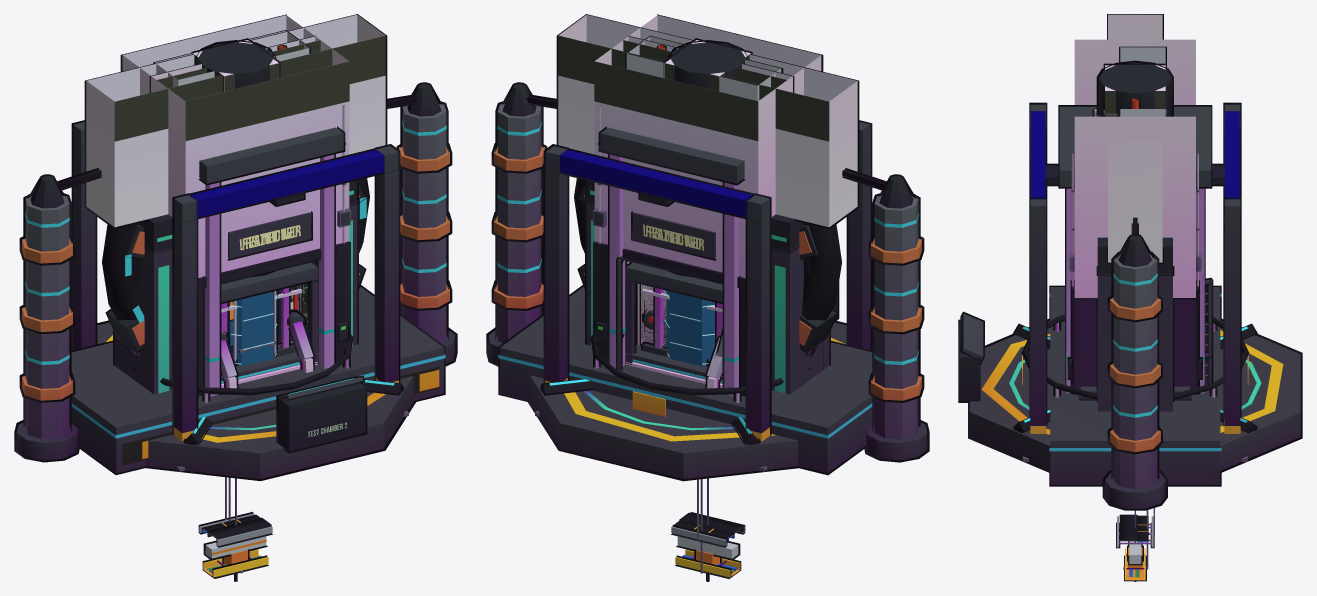
File: fps-kit-datacenter.glb
3 renders of one model, left to right at view 1: azimuth 30°, elevation 25°; view 2: azimuth 150°, elevation 25°; view 3: azimuth 270°, elevation 25°, orthographic. The views are drawn at different scales.
Parts seen in each view (by area): view 1: KIT_DATACENTER_Landmark_Forge, KIT_DATACENTER_GateFrame, KIT_DATACENTER_SecDoor, KIT_DATACENTER_Landmark_GantryMech, KIT_DATACENTER_Landmark_Chamber, KIT_DATACENTER_Landmark_Quantum, KIT_DATACENTER_Fabricator, KIT_DATACENTER_FieldPod_Leaf, KIT_DATACENTER_Landmark_GantryWalker, KIT_DATACENTER_Ladder, KIT_DATACENTER_Landmark_Forge_LED, KIT_DATACENTER_GlassDoor (+5 smaller); view 2: KIT_DATACENTER_Landmark_Forge, KIT_DATACENTER_SecDoor, KIT_DATACENTER_GateFrame, KIT_DATACENTER_Landmark_GantryMech, KIT_DATACENTER_Landmark_Chamber, KIT_DATACENTER_Landmark_Quantum, KIT_DATACENTER_Fabricator, KIT_DATACENTER_FieldPod_Leaf, KIT_DATACENTER_Crac, KIT_DATACENTER_Ladder, KIT_DATACENTER_GlassDoor, KIT_DATACENTER_Tray (+7 smaller); view 3: KIT_DATACENTER_Landmark_Forge, KIT_DATACENTER_SecDoor, KIT_DATACENTER_Landmark_Chamber, KIT_DATACENTER_Landmark_GantryMech, KIT_DATACENTER_GateFrame, KIT_DATACENTER_Landmark_Quantum, KIT_DATACENTER_Ladder, KIT_DATACENTER_Crac, KIT_DATACENTER_CageGate_Broken, KIT_DATACENTER_CornerH, KIT_DATACENTER_Tray, KIT_DATACENTER_Landmark_Forge_LED (+1 smaller).
Part boxes in pixels (x1=…): KIT_DATACENTER_Landmark_Forge: x1=14, y1=82, x2=457, y2=474; KIT_DATACENTER_GateFrame: x1=84, y1=14, x2=387, y2=394; KIT_DATACENTER_SecDoor: x1=120, y1=14, x2=350, y2=396; KIT_DATACENTER_Landmark_GantryMech: x1=71, y1=120, x2=408, y2=471; KIT_DATACENTER_Landmark_Chamber: x1=97, y1=181, x2=415, y2=481; KIT_DATACENTER_Landmark_Quantum: x1=132, y1=40, x2=353, y2=402; KIT_DATACENTER_Fabricator: x1=221, y1=262, x2=318, y2=387; KIT_DATACENTER_FieldPod_Leaf: x1=231, y1=291, x2=277, y2=366; KIT_DATACENTER_Landmark_GantryWalker: x1=221, y1=300, x2=315, y2=388; KIT_DATACENTER_Ladder: x1=198, y1=477, x2=272, y2=547; KIT_DATACENTER_Landmark_Forge_LED: x1=25, y1=120, x2=446, y2=364; KIT_DATACENTER_GlassDoor: x1=149, y1=35, x2=320, y2=92; KIT_DATACENTER_Landmark_Forge: x1=486, y1=82, x2=929, y2=475; KIT_DATACENTER_SecDoor: x1=593, y1=14, x2=823, y2=396; KIT_DATACENTER_GateFrame: x1=556, y1=14, x2=859, y2=394; KIT_DATACENTER_Landmark_GantryMech: x1=535, y1=120, x2=872, y2=471; KIT_DATACENTER_Landmark_Chamber: x1=526, y1=181, x2=846, y2=481; KIT_DATACENTER_Landmark_Quantum: x1=590, y1=40, x2=811, y2=416; KIT_DATACENTER_Fabricator: x1=625, y1=262, x2=722, y2=387; KIT_DATACENTER_FieldPod_Leaf: x1=664, y1=291, x2=714, y2=366; KIT_DATACENTER_Crac: x1=625, y1=36, x2=783, y2=345; KIT_DATACENTER_Ladder: x1=671, y1=479, x2=745, y2=547; KIT_DATACENTER_GlassDoor: x1=623, y1=35, x2=794, y2=92; KIT_DATACENTER_Tray: x1=675, y1=479, x2=741, y2=578; KIT_DATACENTER_Landmark_Forge: x1=1049, y1=217, x2=1221, y2=510; KIT_DATACENTER_SecDoor: x1=1067, y1=39, x2=1202, y2=394; KIT_DATACENTER_Landmark_Chamber: x1=958, y1=311, x2=1302, y2=472; KIT_DATACENTER_Landmark_GantryMech: x1=1023, y1=102, x2=1247, y2=461; KIT_DATACENTER_GateFrame: x1=1096, y1=14, x2=1174, y2=411; KIT_DATACENTER_Landmark_Quantum: x1=1021, y1=60, x2=1248, y2=399; KIT_DATACENTER_Ladder: x1=1116, y1=508, x2=1154, y2=548; KIT_DATACENTER_Crac: x1=1119, y1=46, x2=1166, y2=116; KIT_DATACENTER_CageGate_Broken: x1=1204, y1=277, x2=1213, y2=384; KIT_DATACENTER_CornerH: x1=1103, y1=63, x2=1166, y2=116; KIT_DATACENTER_Tray: x1=1123, y1=510, x2=1148, y2=581; KIT_DATACENTER_Landmark_Forge_LED: x1=1113, y1=273, x2=1157, y2=417.
Bounding box in the file's own units: 7.92 × 9.17 × 5.68.
1 material, 1 textured.
